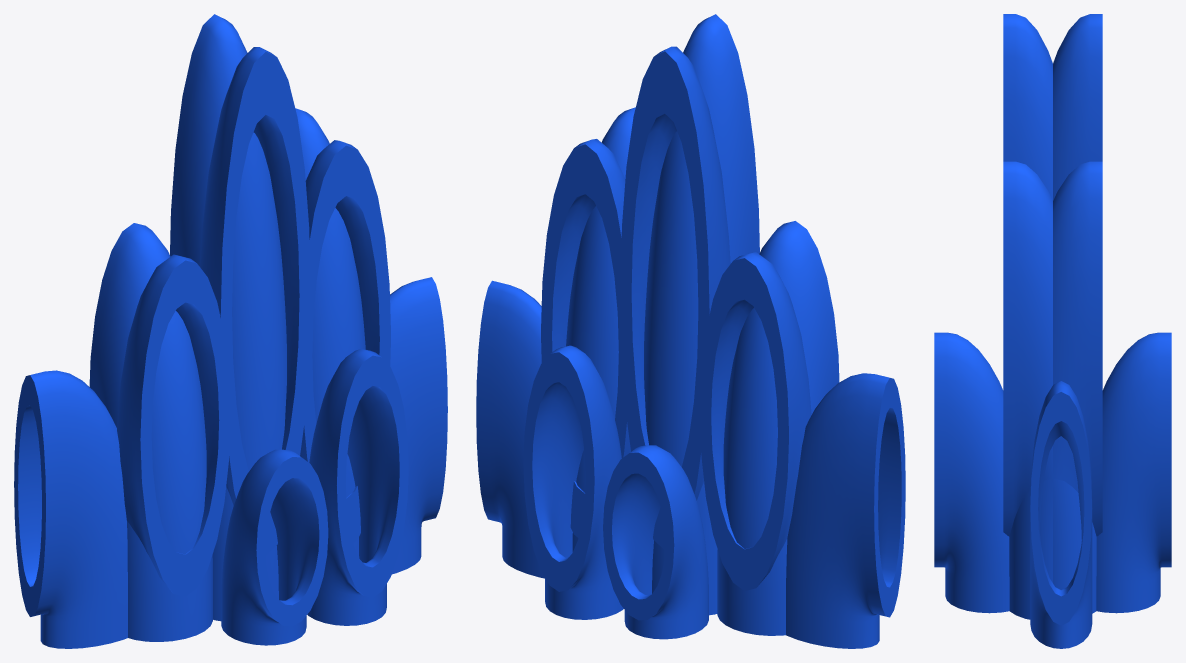
The model's file is coral_tube_blue.fbx.
The picture shows the model from 3 angles, left to right: view 1: azimuth 30°, elevation 25°; view 2: azimuth 150°, elevation 25°; view 3: azimuth 270°, elevation 25°; orthographic projection. The views are drawn at different scales.
Visible parts, largest first — view 1: mergedBlocks; view 2: mergedBlocks; view 3: mergedBlocks.
Boxes of the visible parts, box(x1,y1,x2,y2) form: mergedBlocks: box(14, 14, 447, 648); mergedBlocks: box(476, 14, 905, 648); mergedBlocks: box(934, 14, 1171, 648).
Size of the model in its own units: 6.5 by 8.77 by 3.44.
